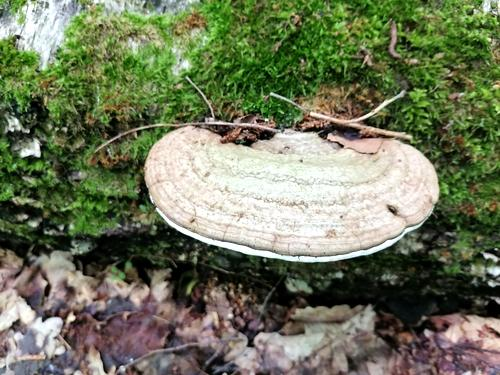Ganoderma - Fruit Body: (144, 119, 440, 263)
